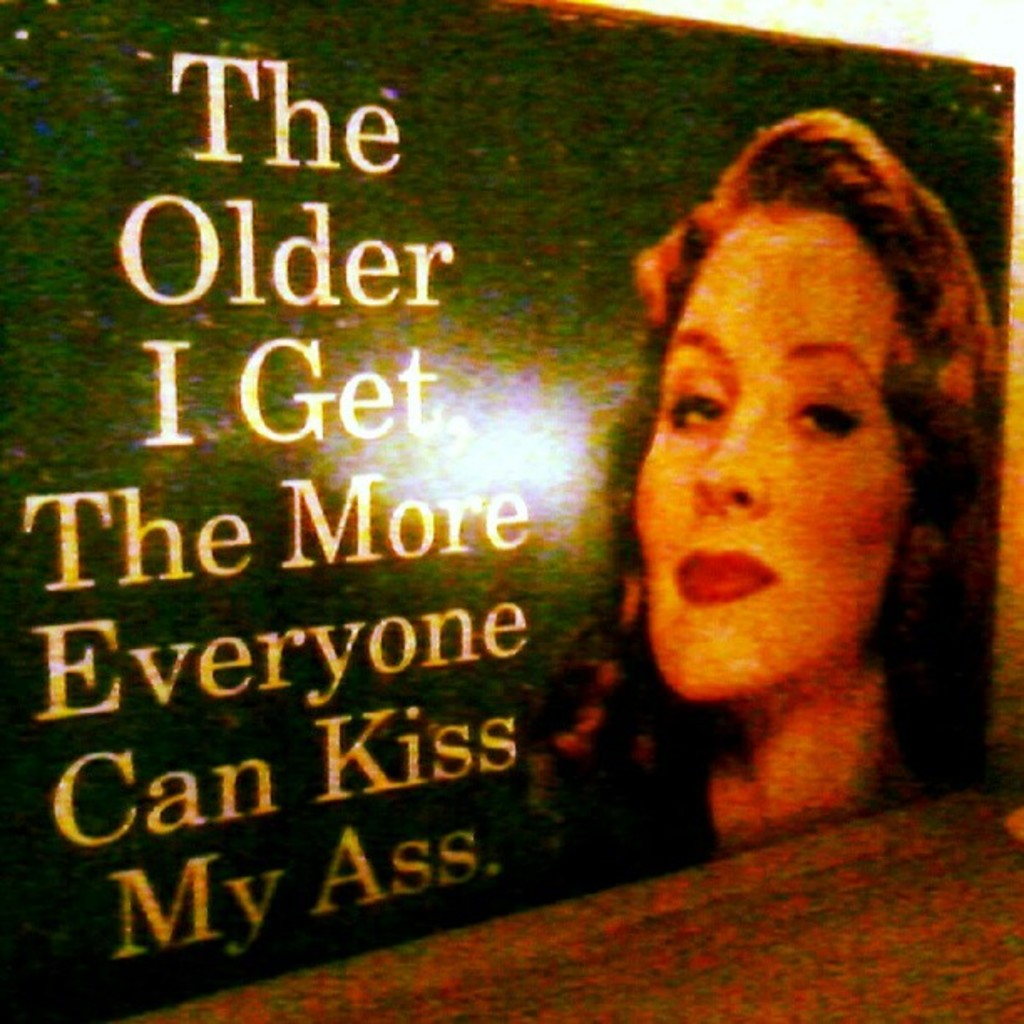Book: (87, 0, 1024, 1024)
